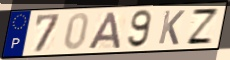0: (62, 12, 92, 52)
7: (33, 13, 62, 54)
9: (127, 9, 155, 50)
A: (87, 11, 123, 50)
K: (156, 9, 187, 46)
Z: (185, 8, 222, 46)
